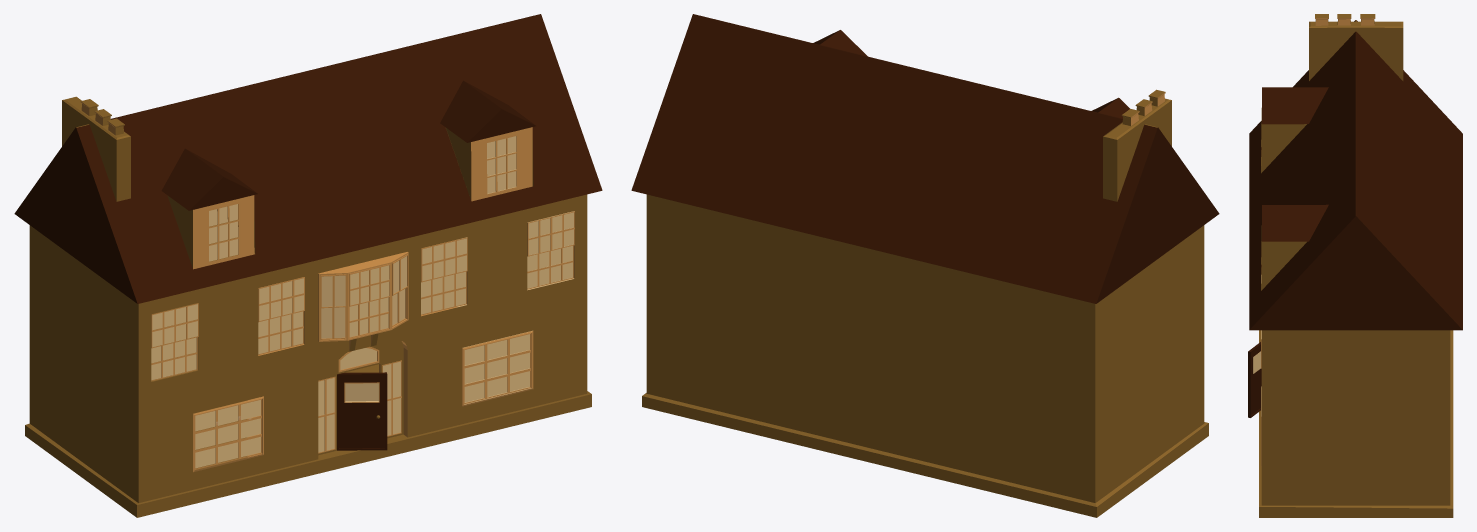
Rendered from House Opendoor.fbx.
3 renders of one model, left to right at view 1: azimuth 30°, elevation 25°; view 2: azimuth 150°, elevation 25°; view 3: azimuth 270°, elevation 25°, orthographic. The views are drawn at different scales.
Parts seen in each view (by area): view 1: Cube.001; view 2: Cube.001; view 3: Cube.001.
Boxes of the visible parts, bbox=[...] form: Cube.001: bbox=[14, 14, 602, 517]; Cube.001: bbox=[631, 14, 1219, 517]; Cube.001: bbox=[1248, 14, 1462, 517].
Size of the model in its own units: 7.38 by 5.53 by 3.41.
